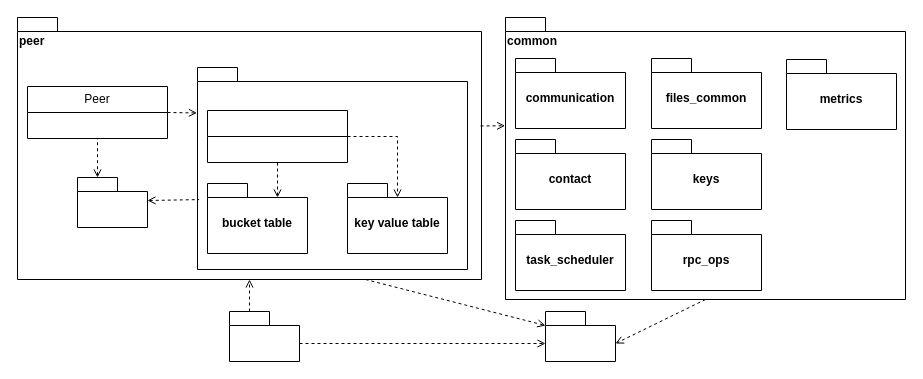
The diagram is 923 pixels wide and 379 high, and some of its shapes have lost their labels. Here are the shapes that lost their labels. From the top down, the box of each, then its label:
(206, 110, 348, 162): Node
(196, 66, 468, 270): dht
(76, 176, 148, 228): helpers
(228, 310, 300, 362): client
(544, 310, 616, 362): protobuf
